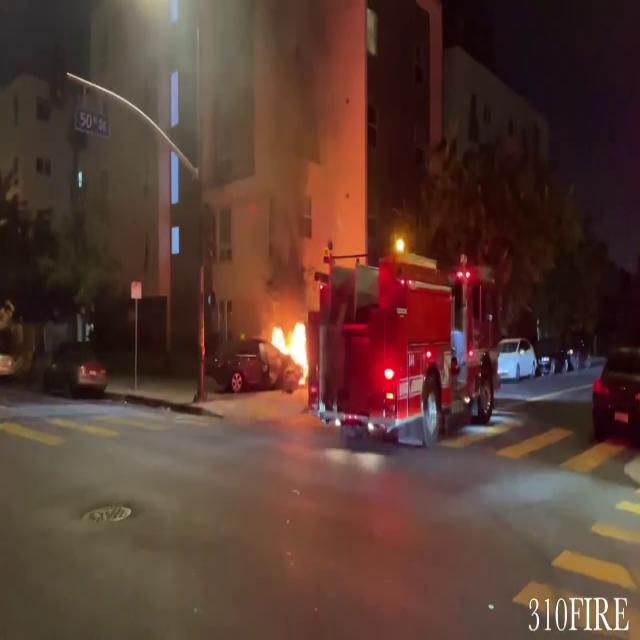Fire: (267, 307, 313, 385)
Smoke: (224, 0, 354, 294)
